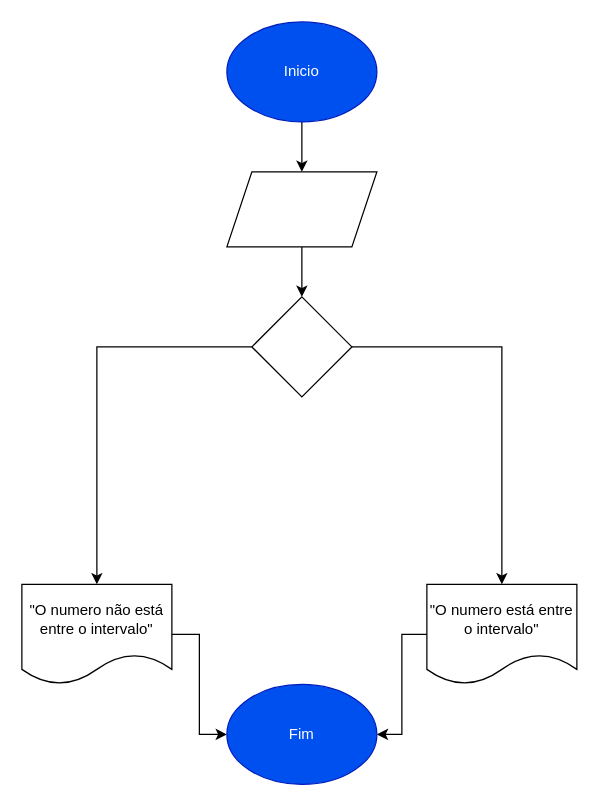
Some shapes in this 599 by 806 pixel diagram are drawn without their labels. Each missing label, with the centre of its shape:
num: (x=301, y=209)
num<200 e > 100: (x=301, y=346)
